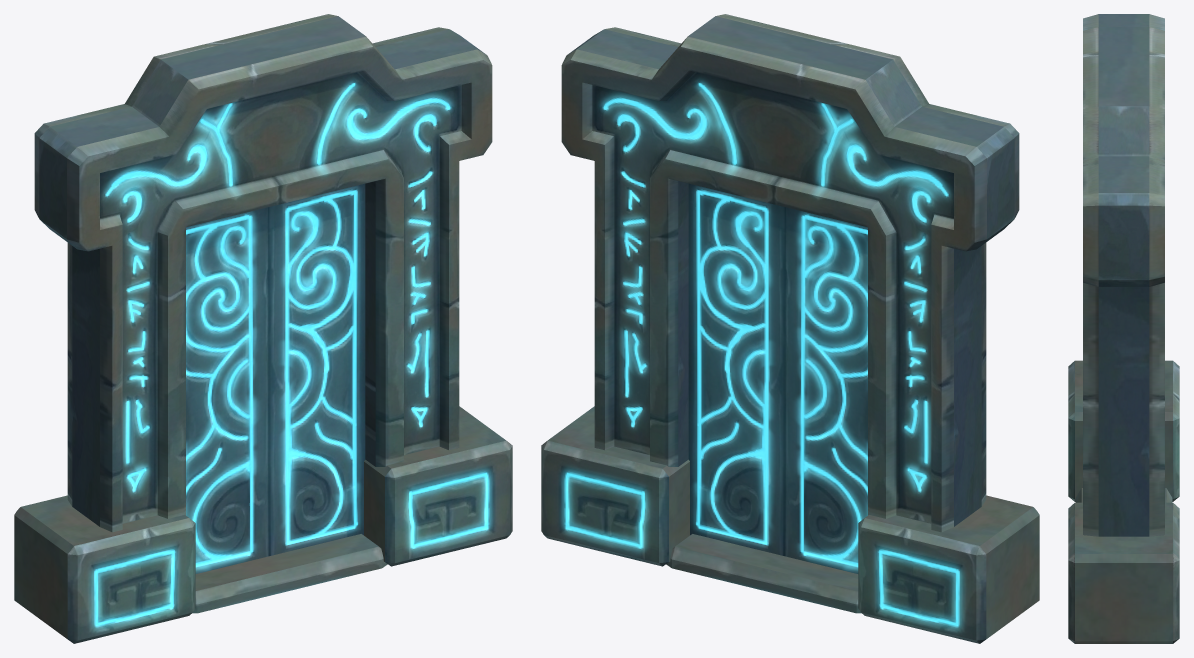
File: ExitDoor.glb
3 views of the same model, side by side, from view 1: azimuth 30°, elevation 25°; view 2: azimuth 150°, elevation 25°; view 3: azimuth 270°, elevation 25° (orthographic). The views are drawn at different scales.
Parts seen in each view (by area): view 1: ExitDoor; view 2: ExitDoor; view 3: ExitDoor.
Boxes of the visible parts, left/top/right/bottom form: ExitDoor: left=14, top=14, right=512, bottom=643; ExitDoor: left=541, top=14, right=1039, bottom=643; ExitDoor: left=1068, top=14, right=1179, bottom=643.
Bounding box in the file's own units: 6.96 × 7.83 × 1.65.
1 material, 1 textured.
